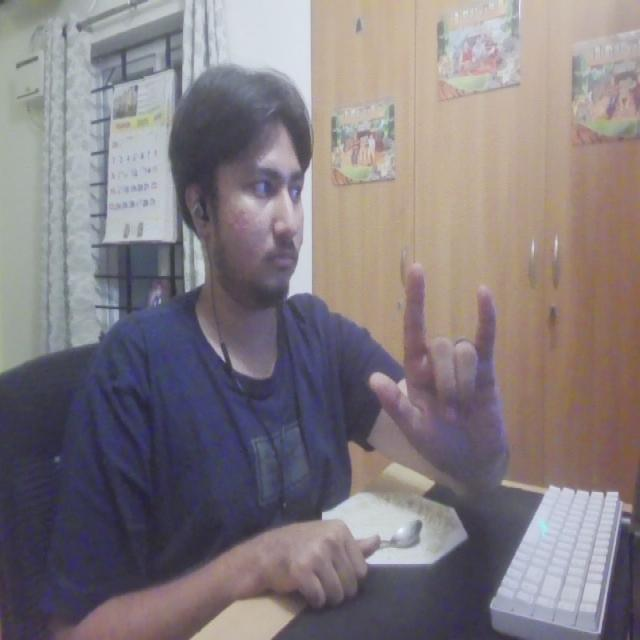iloveyou: (366, 263, 522, 478)
